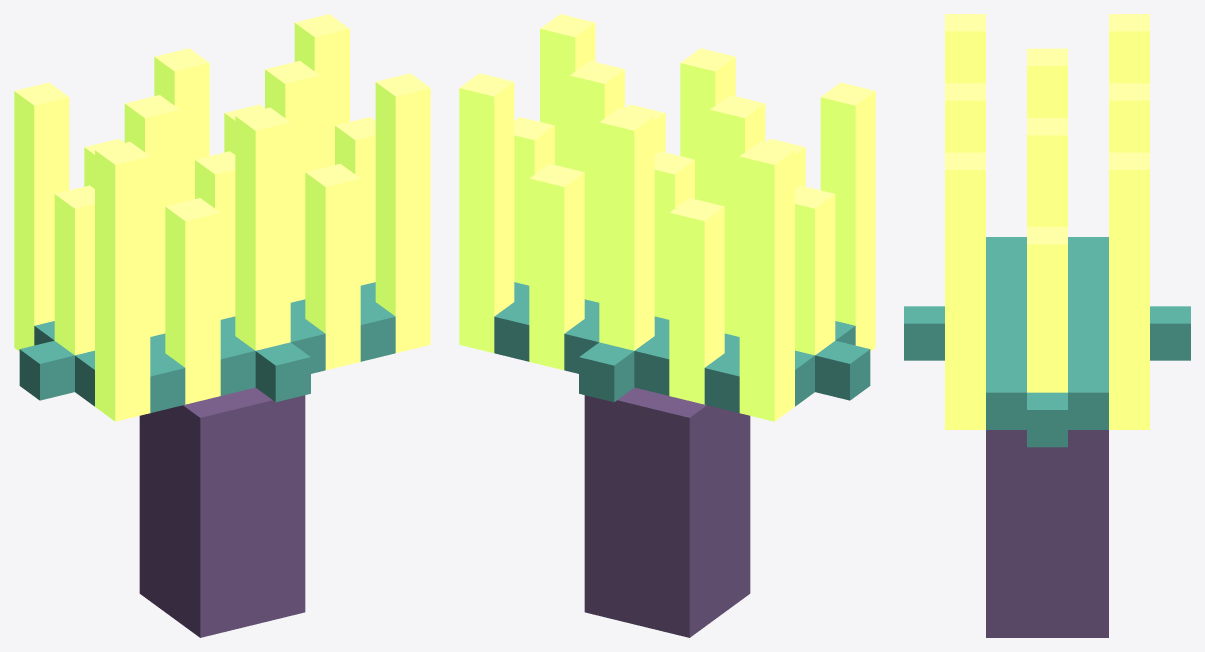
The model's file is alien-biosphere-brush-head-fb434803.glb.
3 renders of one model, left to right at view 1: azimuth 30°, elevation 25°; view 2: azimuth 150°, elevation 25°; view 3: azimuth 270°, elevation 25°, orthographic.
Visible parts, largest first — view 1: brush-head; view 2: brush-head; view 3: brush-head.
Boxes of the visible parts, x1,y1,x2,y2 form: brush-head: (14, 14, 430, 637); brush-head: (459, 14, 875, 637); brush-head: (904, 14, 1190, 637).
Bounding box in the file's own units: 1.32 × 1.68 × 0.8399.
